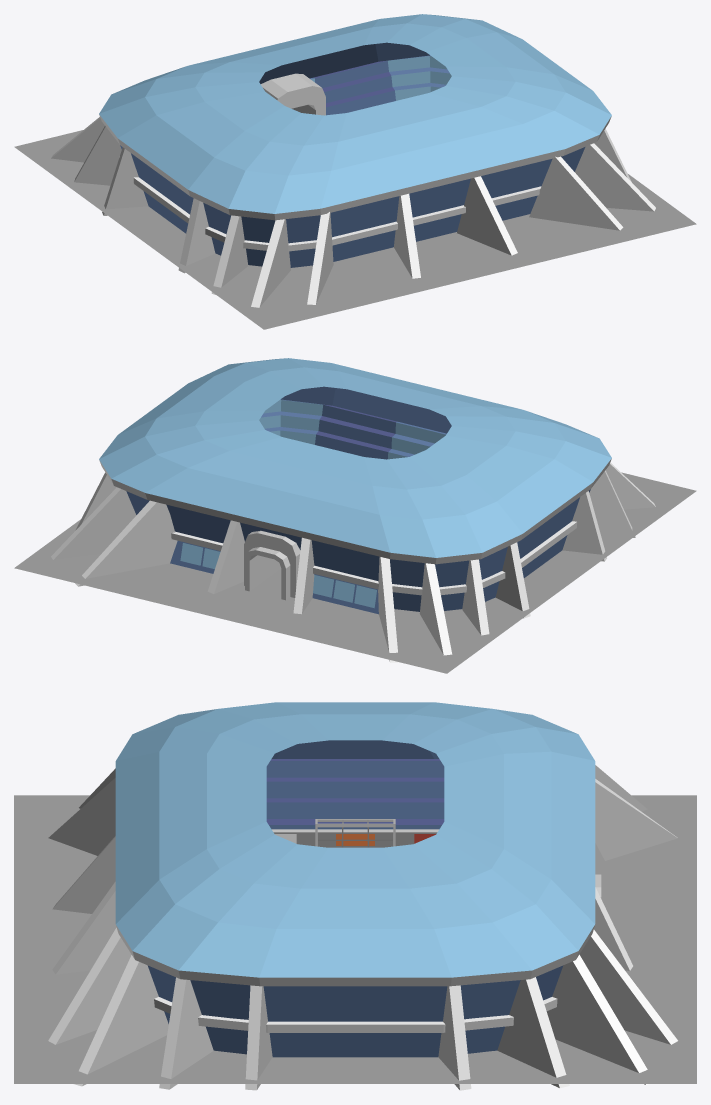
Rendered from building_2_2_2_7.glb.
3 views of the same model, one above another, from view 1: azimuth 30°, elevation 25°; view 2: azimuth 150°, elevation 25°; view 3: azimuth 270°, elevation 25° (orthographic). The views are drawn at different scales.
Visible parts, largest first — view 1: building_2_2_2_7; view 2: building_2_2_2_7; view 3: building_2_2_2_7.
Boxes of the visible parts, x1=… form: building_2_2_2_7: x1=14, y1=14, x2=696, y2=329; building_2_2_2_7: x1=14, y1=358, x2=696, y2=673; building_2_2_2_7: x1=14, y1=702, x2=696, y2=1090.
Bounding box in the file's own units: 32 × 8.02 × 32.
Materials: 1 (1 with a texture image).
